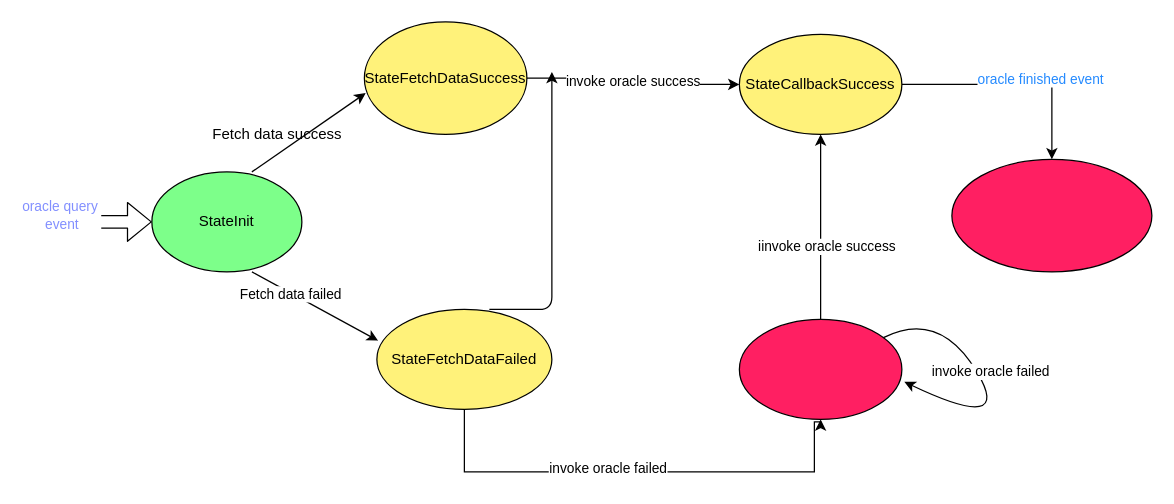
The diagram is 1174 pixels wide and 504 high, and some of its shapes have lost their labels. The box of each missing label's shape, as (x1, y1, x2, y2) in pixels:
StateCallbackFailed: (738, 318, 902, 419)
StateResultOnChainSuccess: (951, 158, 1152, 272)
